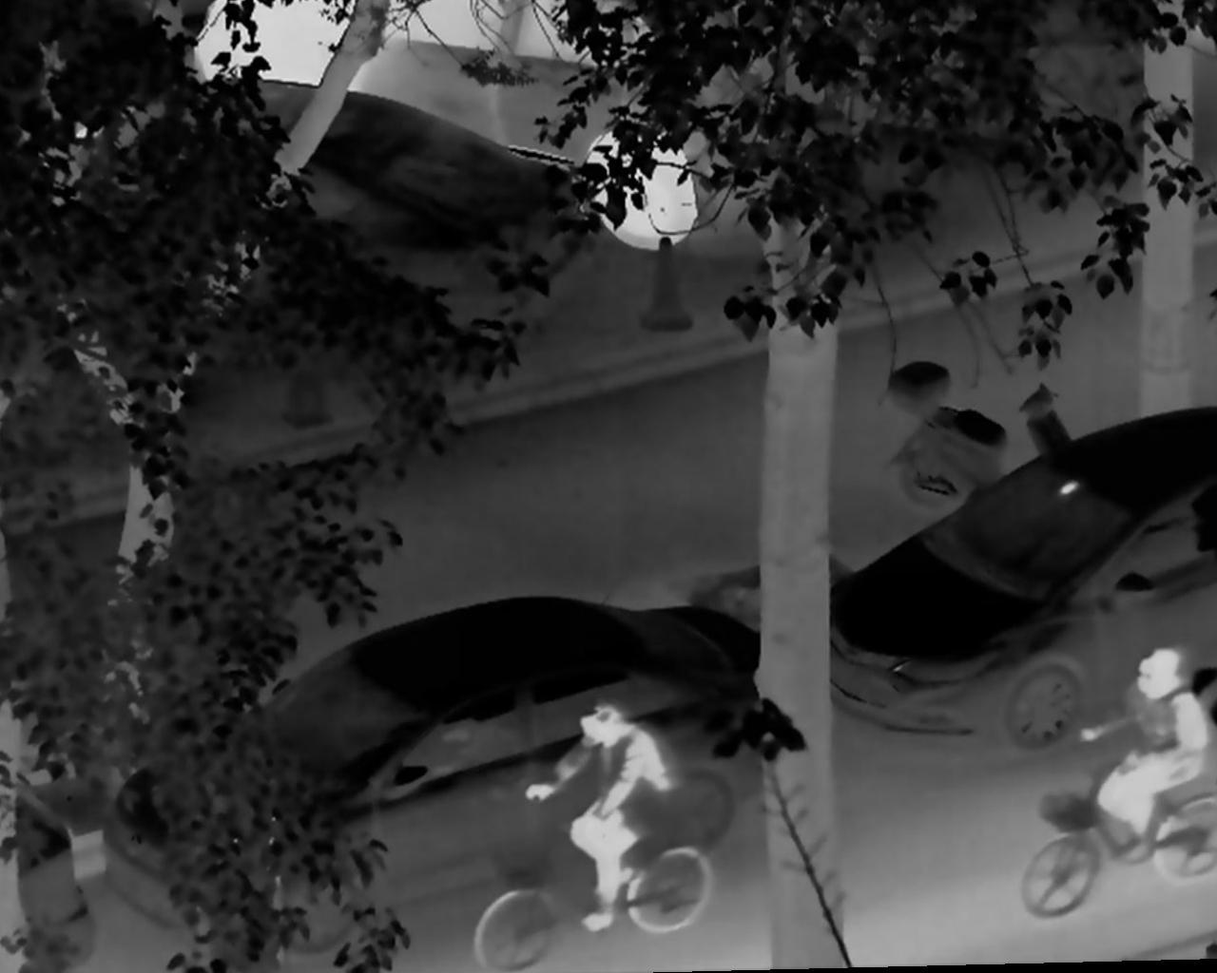person: (524, 689, 670, 941), (1079, 633, 1210, 858)
